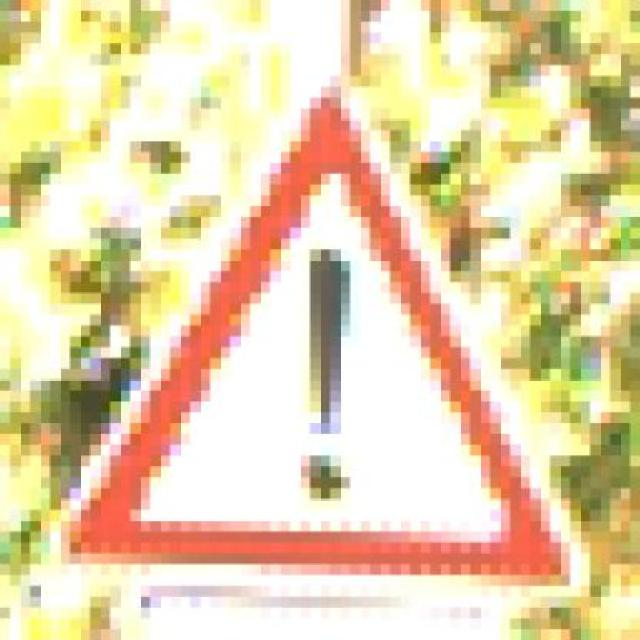Attention Please-: (29, 65, 620, 597)
